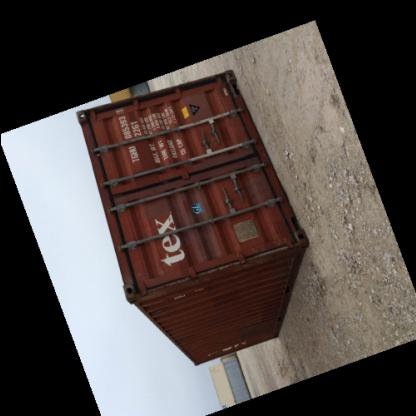Damage: (241, 172, 273, 202)
